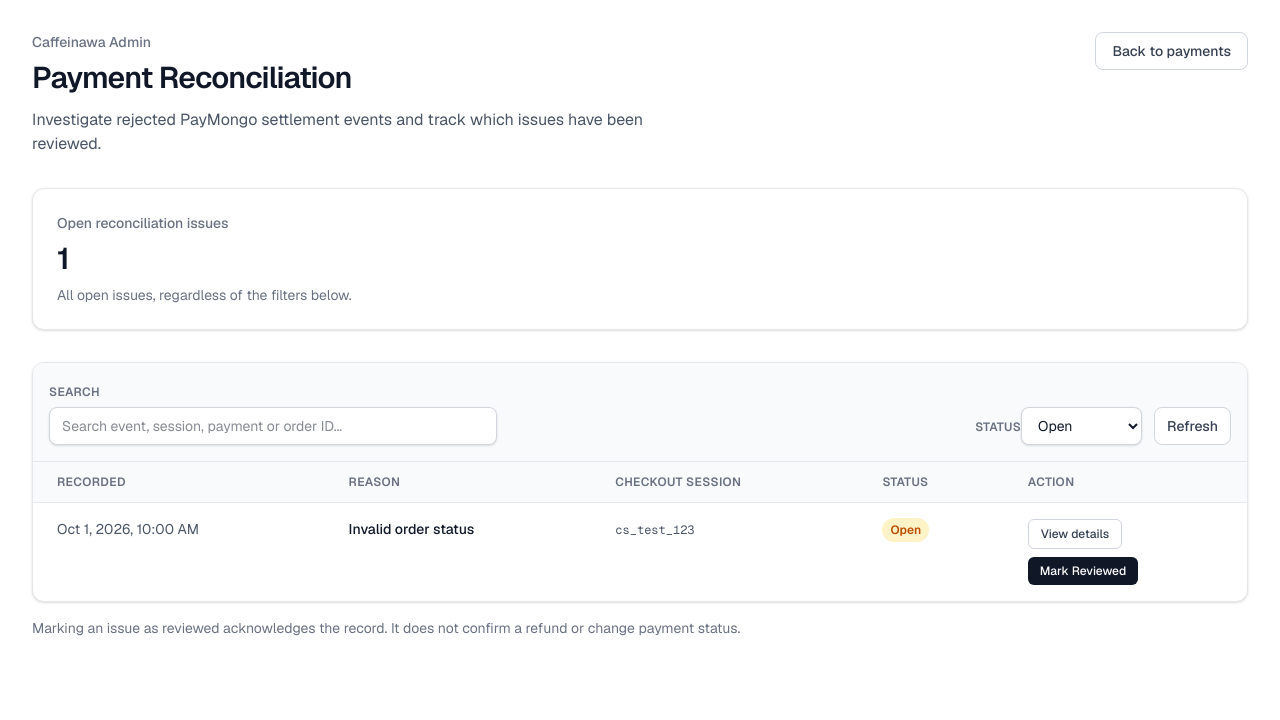
Test: AdminPaymentReconciliationPage › expands issue details
The image size is (1280, 720).
Check: the text "cs_test_123" is shown, box [615,522,694,538]
Click the button "View details" at (1075, 534), box [1028,519,1122,549]
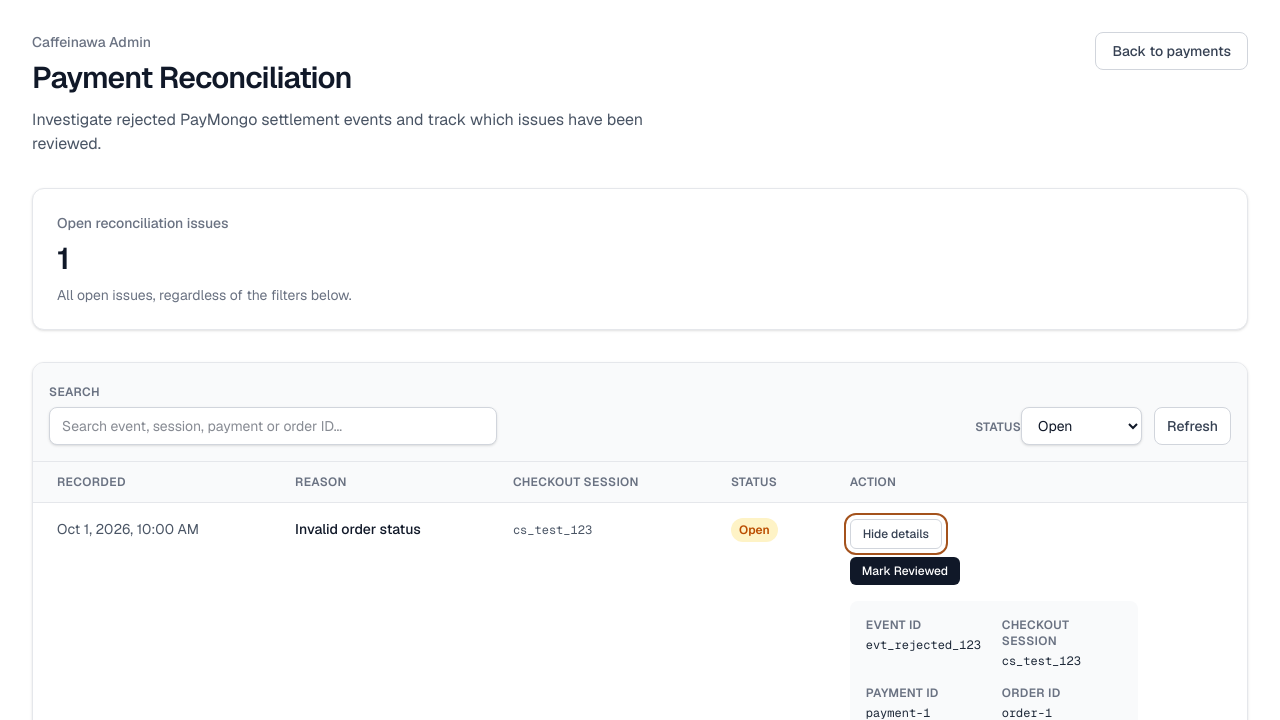
Check: the text "evt_rejected_123" is shown, box [866,637,986,653]
Check: the text "payment-1" is shown, box [866,705,930,719]
Check: the text "order-1" is shown, box [1002,705,1052,719]
